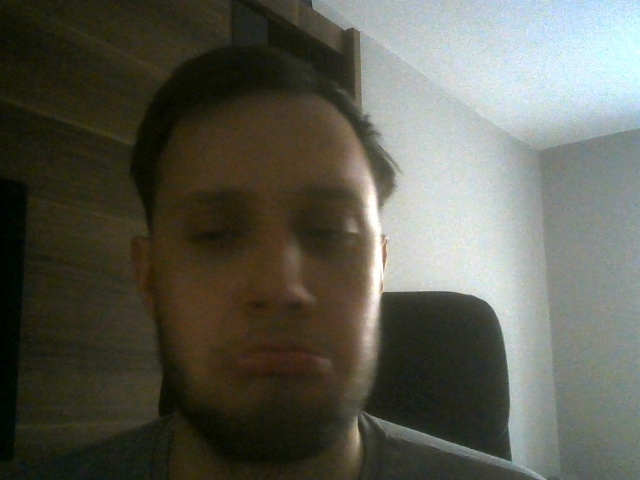sad: (130, 49, 392, 457)
